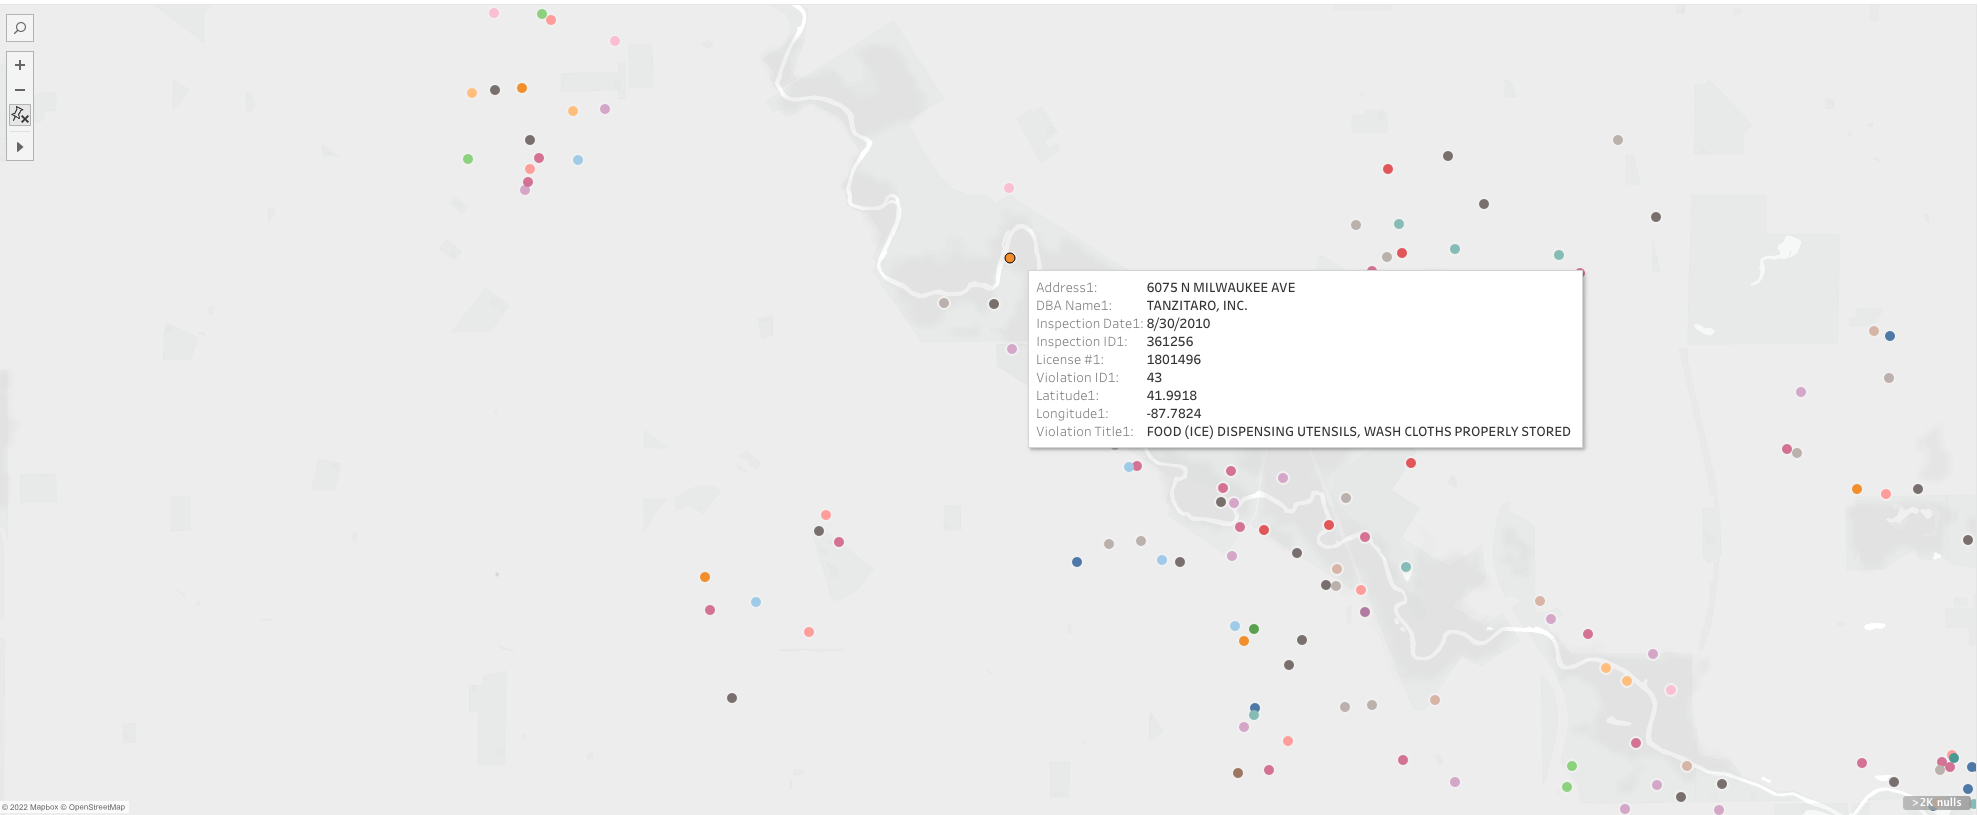

This screenshot's page, from the dashboard's own definition file:
{"tool":"tableau","page":{"name":"Dashboard 1","canvas":[1000,800],"ordinal":0},"visuals":[{"type":"worksheet","title":"Sheet 1","mark":"Automatic","rows":["Latitude"],"cols":["Longitude"],"box":[8,8,824,784]},{"type":"legend","title":"Sheet 1","param":"[federated.0o1jjdp1qobwc11h5zsna1qv31yo].[none:Results:nk]","box":[832,8,160,166]},{"type":"currpage","title":"Sheet 1","box":[832,174,160,110]}]}

Visuals, with their boxes on the page's 1000x800 design canvas (x1, y1, x2, y2). These are canvas units, not pixel positions in the 1978x815 screenshot, which may show the page scaled, cropped or inside an application window:
"Sheet 1" worksheet: crop(8, 8, 832, 792)
"Sheet 1" legend: crop(832, 8, 992, 174)
"Sheet 1" currpage: crop(832, 174, 992, 284)
